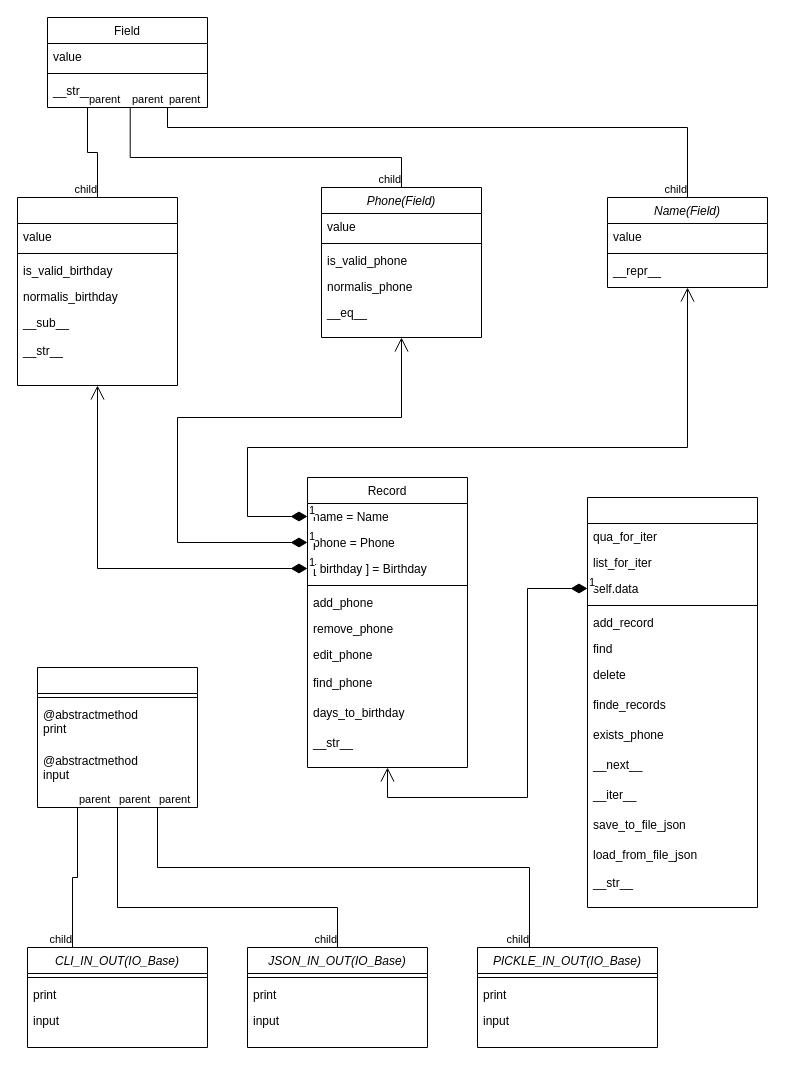
The diagram is 785 pixels wide and 1065 high, and some of its shapes have lost their labels. The box of each missing label's shape, as (x1, y1, x2, y2) in pixels:
AddressBook(UserDict): (586, 496, 758, 908)
Birthday(Field): (16, 196, 178, 386)
IO_Base: (36, 666, 198, 808)
